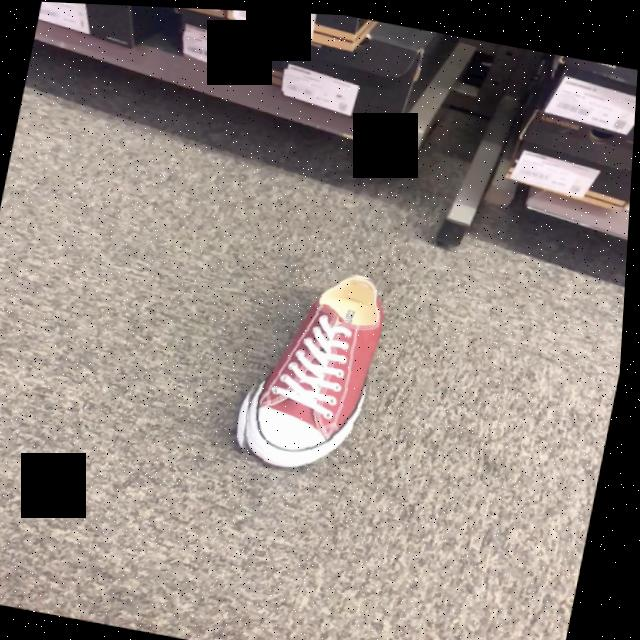shoe: (248, 274, 388, 469)
